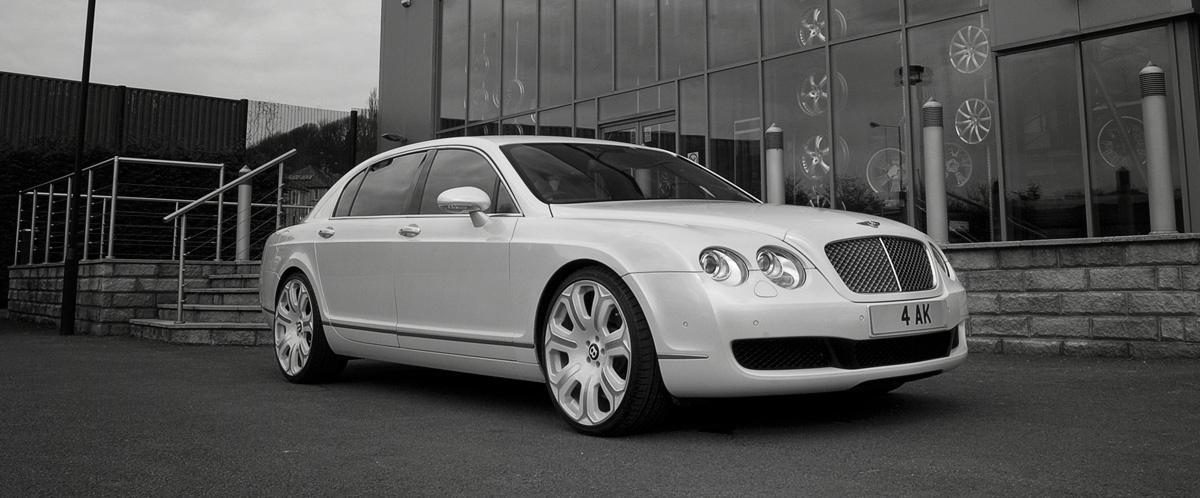car: (243, 124, 982, 449)
